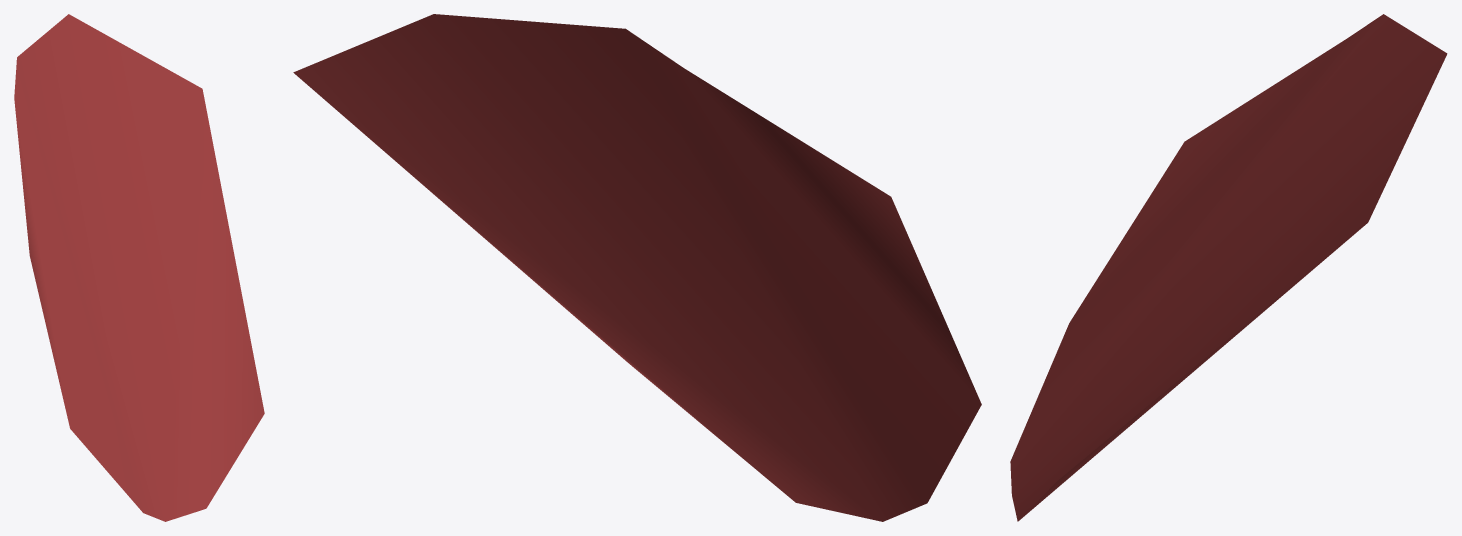
File: extensor-digitorum-e4l.glb
3 renders of one model, left to right at view 1: azimuth 30°, elevation 25°; view 2: azimuth 150°, elevation 25°; view 3: azimuth 270°, elevation 25°, orthographic. The views are drawn at different scales.
Parts seen in each view (by area): view 1: Extensor digitorum.e4l; view 2: Extensor digitorum.e4l; view 3: Extensor digitorum.e4l.
Part boxes in pixels (x1,y1,x2,y2): Extensor digitorum.e4l: [14, 14, 264, 521]; Extensor digitorum.e4l: [293, 14, 981, 521]; Extensor digitorum.e4l: [1010, 14, 1447, 521].
Size of the model in its own units: 0.00406 by 0.00583 by 0.00475.
